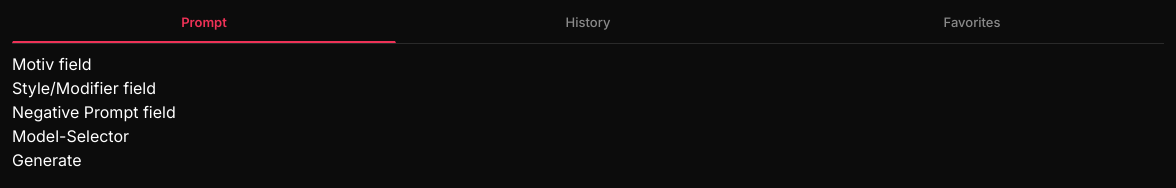
Test: Prompt Tabs Container › AC-4: should show history content and hide prompt content when History tab is clicked
Expected: the element with test id "prompt-content" is shown, 12,54 -> 176,172
// Click on History tab
Click the tab with test id "tab-history": (588, 27) 396,12 -> 780,42
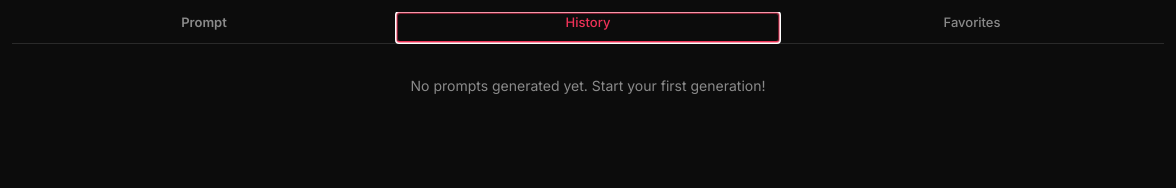
Expected: the text "No prompts generated yet. Start your first generation!" is shown, 410,76 -> 765,94
Expected: the element with test id "prompt-content" is gone
